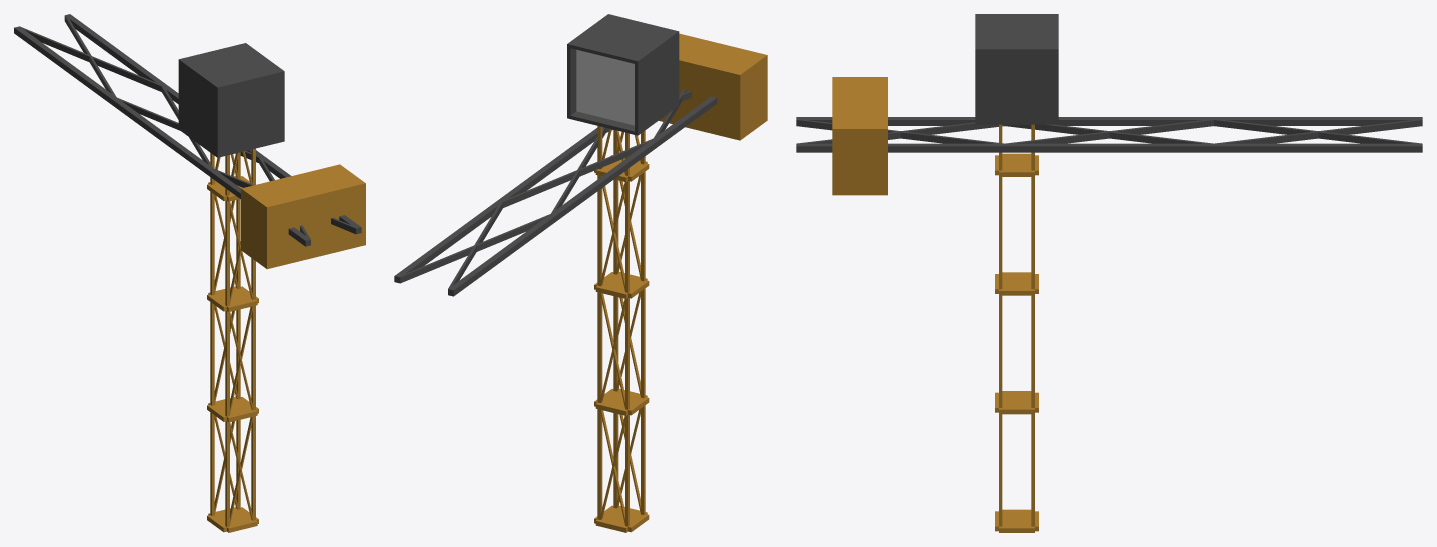
File: crane_2.fbx
3 views of the same model, side by side, from view 1: azimuth 30°, elevation 25°; view 2: azimuth 150°, elevation 25°; view 3: azimuth 270°, elevation 25° (orthographic). The views are drawn at different scales.
Visible parts, largest first — view 1: Cube; view 2: Cube; view 3: Cube.
Part boxes in pixels (bbox=[...]): Cube: bbox=[14, 14, 365, 532]; Cube: bbox=[394, 14, 767, 532]; Cube: bbox=[796, 14, 1422, 532].
Size of the model in its own units: 683 by 3020 by 3490.
